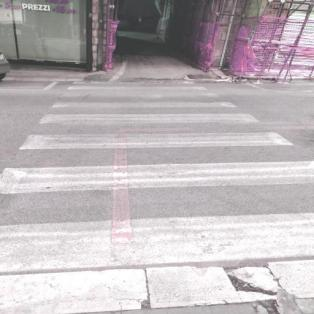Paso de Cebra: (1, 160, 314, 263), (16, 110, 303, 153)
